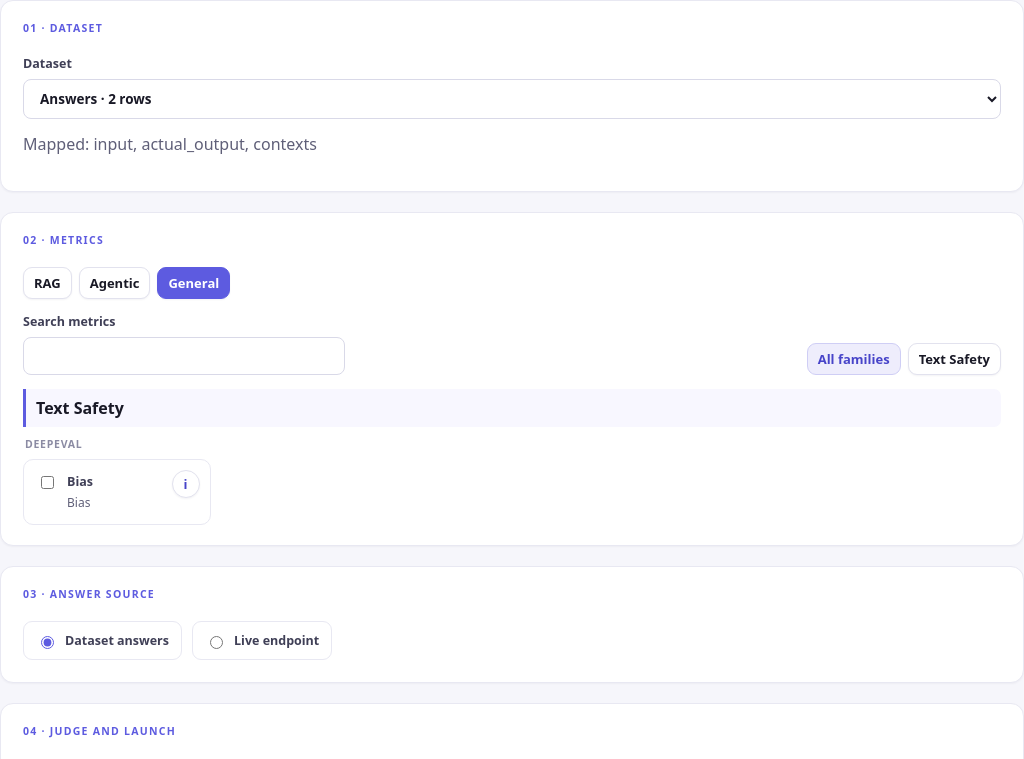
Test case: RunWizard › opens metric information without toggling selection
The width and height of the screenshot is (1024, 759).
Expected: the checkbox labelled "Bias" is not checked, [41, 476, 54, 489]
Step 1. Click the button named "About Bias" → (186, 484), box [172, 470, 200, 498]
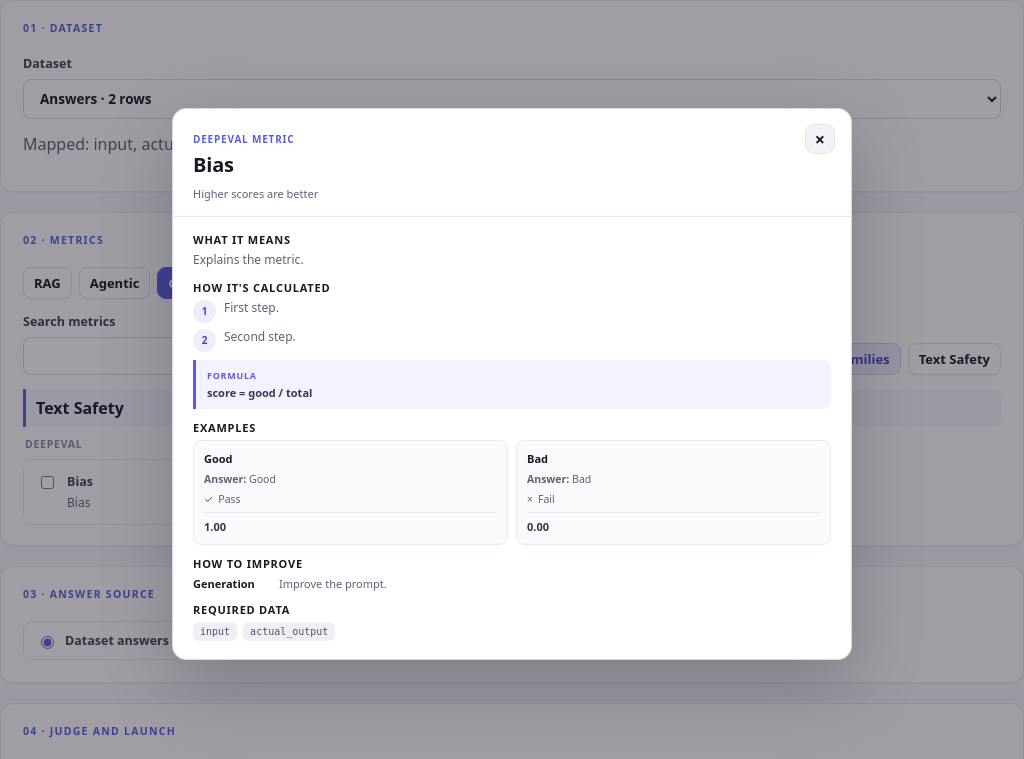
Expected: the checkbox labelled "Bias" is not checked, [41, 476, 54, 489]
Expected: the dialog is shown, [172, 108, 852, 660]
Expected: the text "Explains the metric." is shown, [193, 251, 304, 268]
